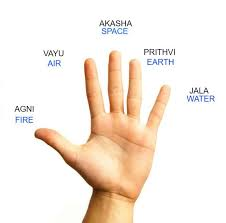palm: (33, 48, 173, 206)
